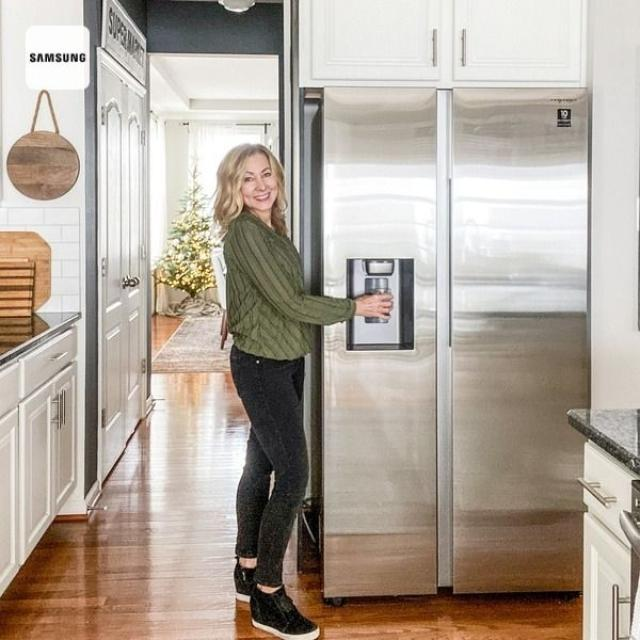obstacle: (302, 84, 591, 605)
person: (211, 142, 394, 639)
